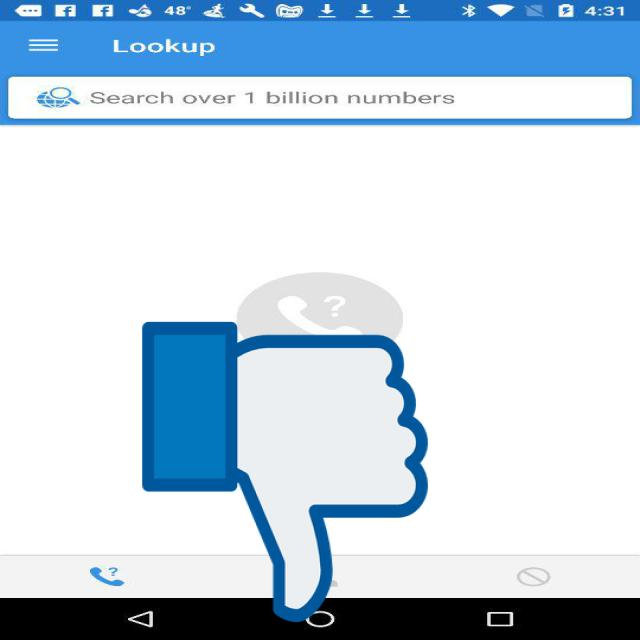obstruction: (142, 315, 428, 629)
